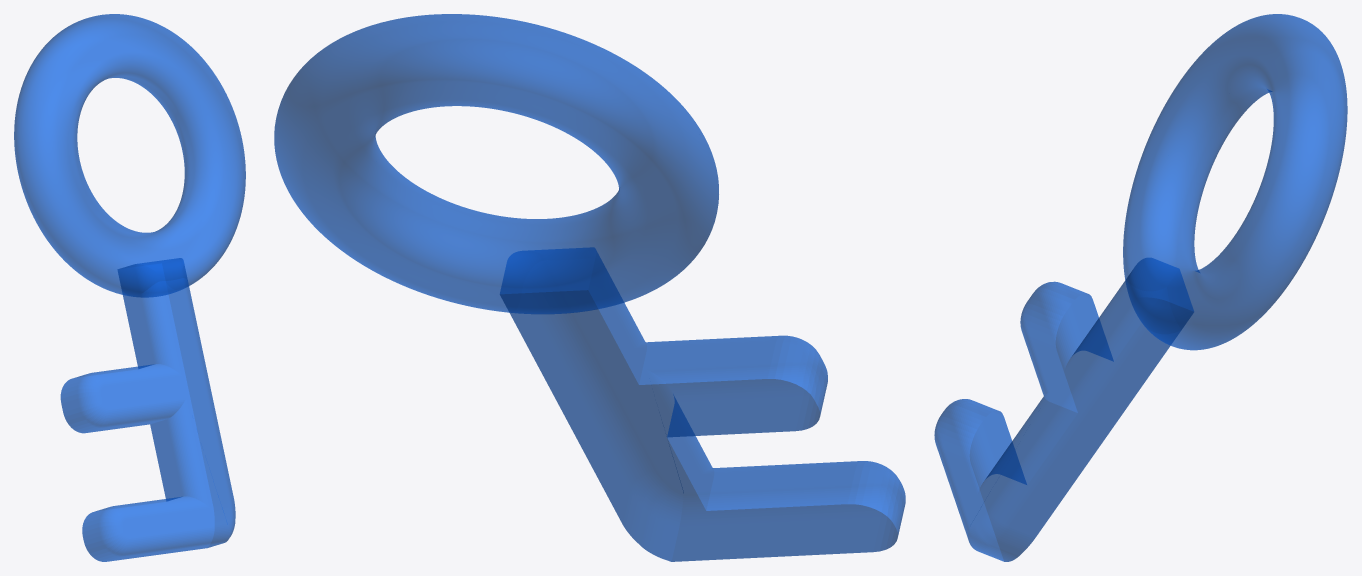
The model's file is key.glb.
The picture shows the model from 3 angles, left to right: view 1: azimuth 30°, elevation 25°; view 2: azimuth 150°, elevation 25°; view 3: azimuth 270°, elevation 25°; orthographic projection. The views are drawn at different scales.
Parts seen in each view (by area): view 1: Cylinder, Plane; view 2: Cylinder, Plane; view 3: Cylinder, Plane.
Part boxes in pixels (bbox=[...]): Cylinder: bbox=[14, 14, 245, 297]; Plane: bbox=[60, 258, 235, 561]; Cylinder: bbox=[274, 14, 718, 313]; Plane: bbox=[500, 247, 905, 561]; Cylinder: bbox=[1123, 14, 1347, 350]; Plane: bbox=[934, 258, 1193, 561].
Bounding box in the file's own units: 2.16 × 3.32 × 2.33.
